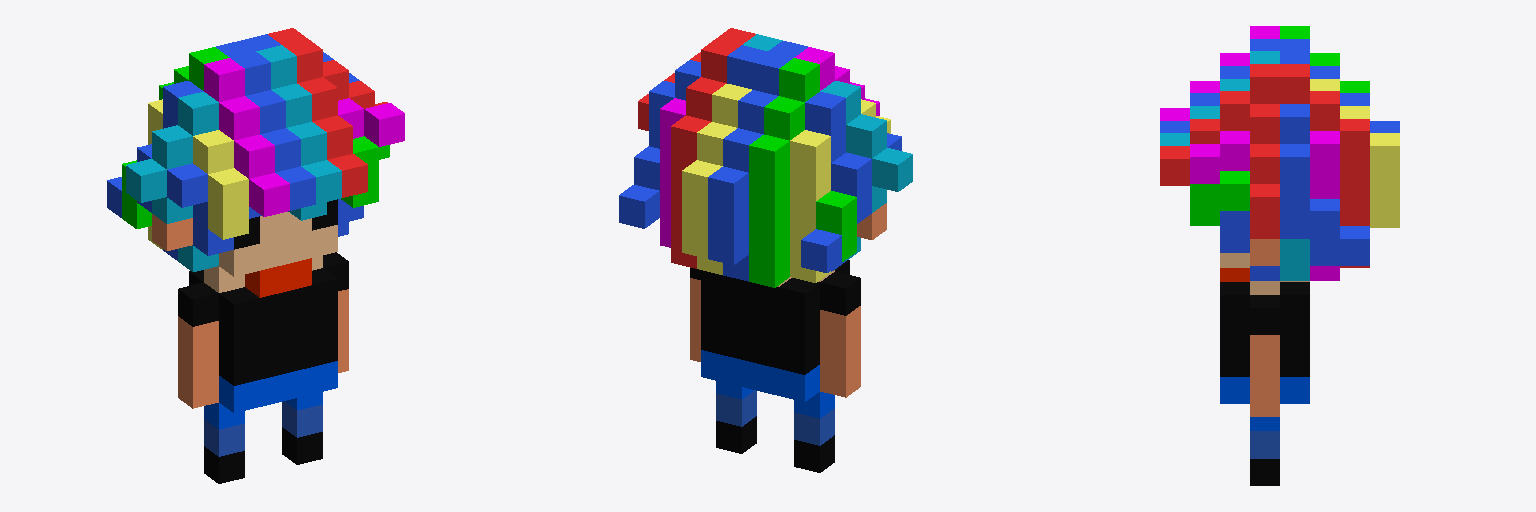
3 views of the same model, side by side, from view 1: azimuth 30°, elevation 25°; view 2: azimuth 150°, elevation 25°; view 3: azimuth 270°, elevation 25° (orthographic).
Visible parts, largest first — view 1: object 1; view 2: object 1; view 3: object 1.
Part boxes in pixels (left/top/right/bottom): object 1: left=107, top=28, right=404, bottom=483; object 1: left=619, top=28, right=912, bottom=472; object 1: left=1160, top=26, right=1399, bottom=485.
Size of the model in its own units: 1 by 1.5 by 0.8.
1 materials, 1 textured.